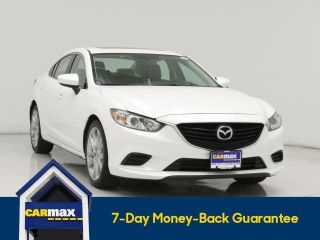Mazda3 Hatchback: (29, 46, 284, 190)
